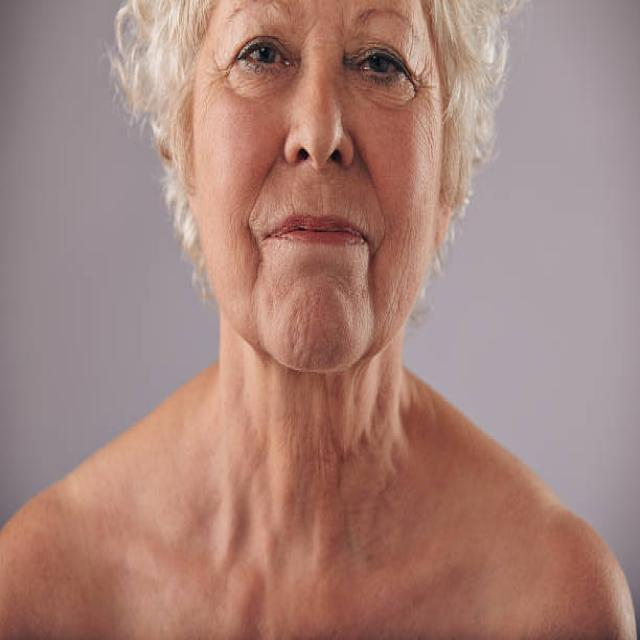Dry-Skin: (371, 94, 447, 303), (244, 254, 356, 366)
